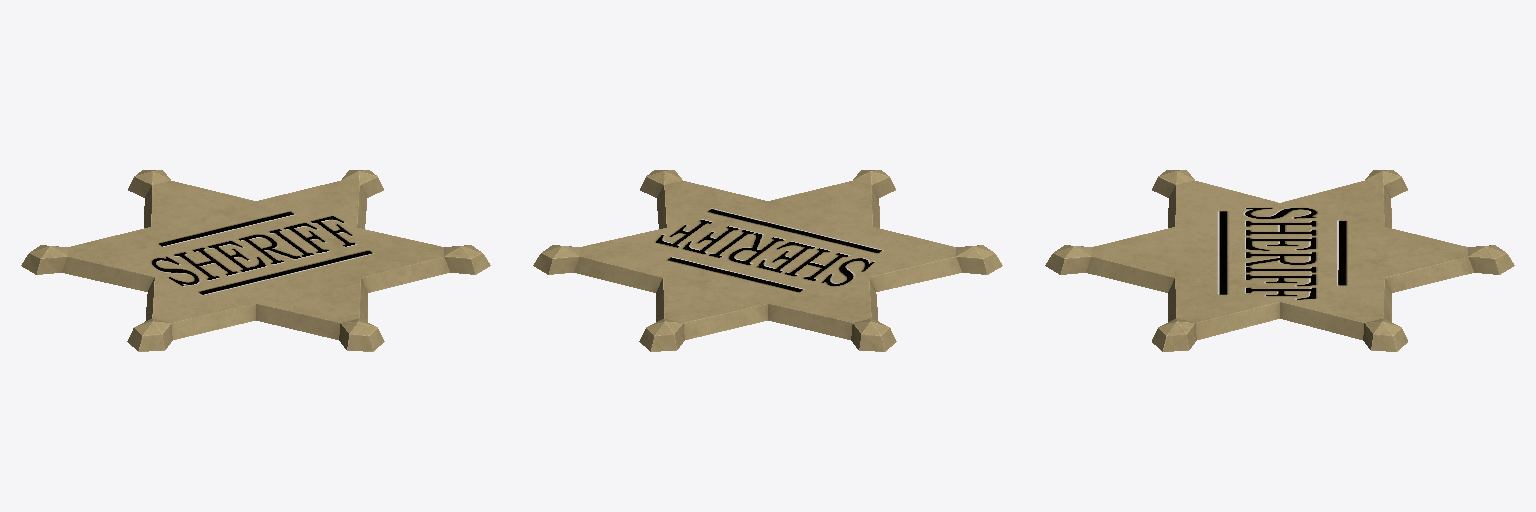
The picture shows the model from 3 angles: view 1: azimuth 30°, elevation 25°; view 2: azimuth 150°, elevation 25°; view 3: azimuth 270°, elevation 25°; orthographic projection.
Parts seen in each view (by area): view 1: SheriffStar_Mesh; view 2: SheriffStar_Mesh; view 3: SheriffStar_Mesh.
Part boxes in pixels (bbox=[...]): SheriffStar_Mesh: bbox=[21, 170, 490, 351]; SheriffStar_Mesh: bbox=[533, 170, 1002, 351]; SheriffStar_Mesh: bbox=[1045, 170, 1514, 351].
Size of the model in its own units: 1.96 by 0.1047 by 2.26.
Materials: 1 (1 with a texture image).